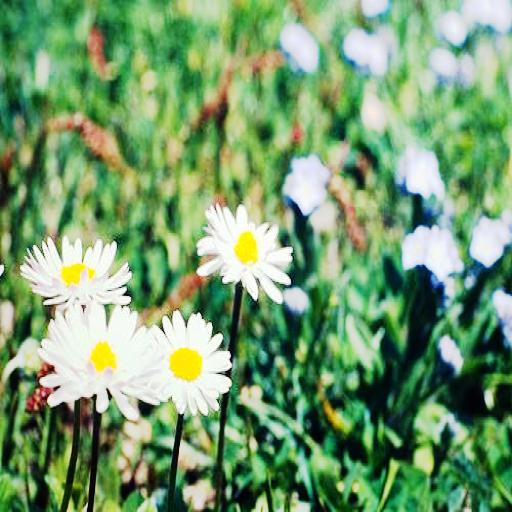daisy: (39, 303, 155, 414), (12, 228, 122, 305), (204, 201, 293, 296), (152, 314, 228, 410)
